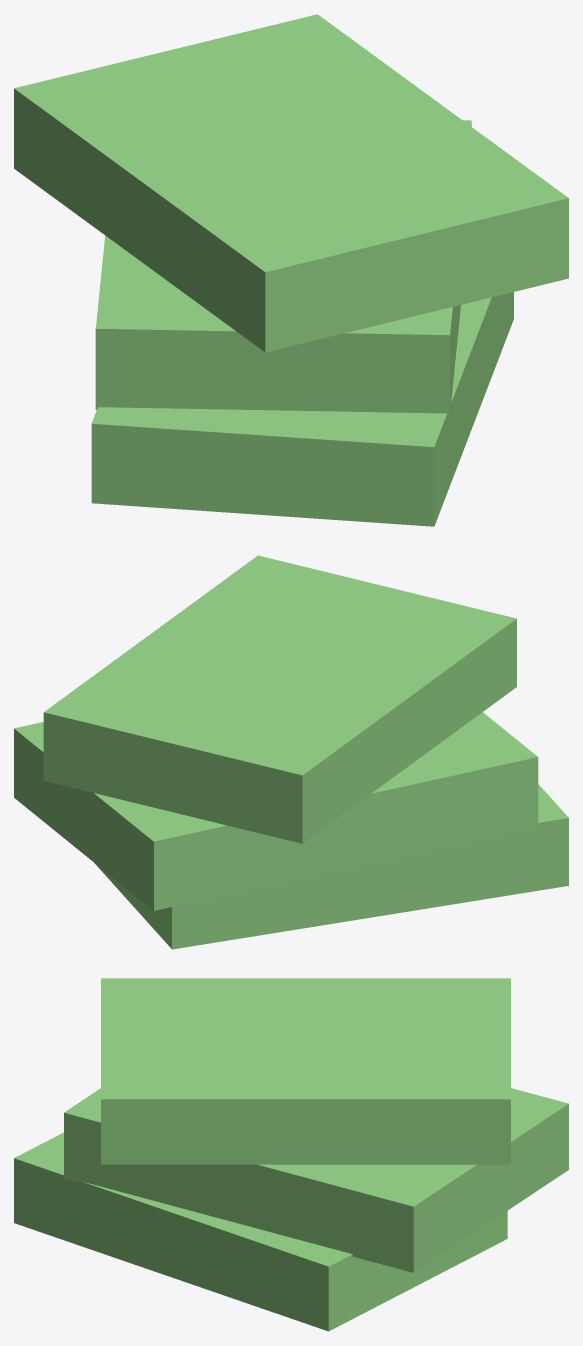
Rendered from Book_Pile_01A_Lod0.fbx.
3 views of the same model, one above another, from view 1: azimuth 30°, elevation 25°; view 2: azimuth 150°, elevation 25°; view 3: azimuth 270°, elevation 25° (orthographic). The views are drawn at different scales.
Visible parts, largest first — view 1: Book_Pile_01A_Lod0; view 2: Book_Pile_01A_Lod0; view 3: Book_Pile_01A_Lod0.
Boxes of the visible parts, x1=… form: Book_Pile_01A_Lod0: x1=14, y1=14, x2=568, y2=526; Book_Pile_01A_Lod0: x1=14, y1=555, x2=568, y2=949; Book_Pile_01A_Lod0: x1=14, y1=978, x2=568, y2=1331.
Bounding box in the file's own units: 30.07 × 13.57 × 34.37.
